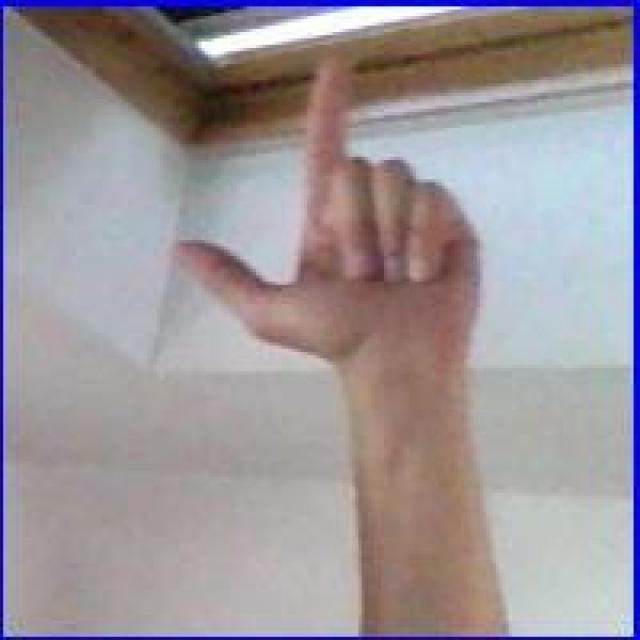L: (160, 54, 493, 352)
